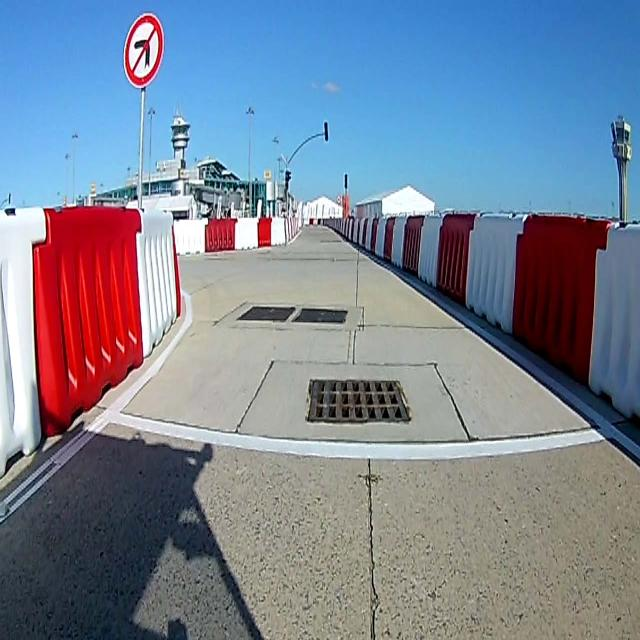soladonulmez: (124, 16, 166, 91)
